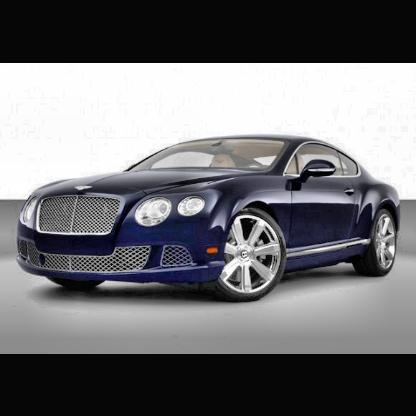Bentley Continental GT Coupe 2012: (15, 132, 405, 307)
